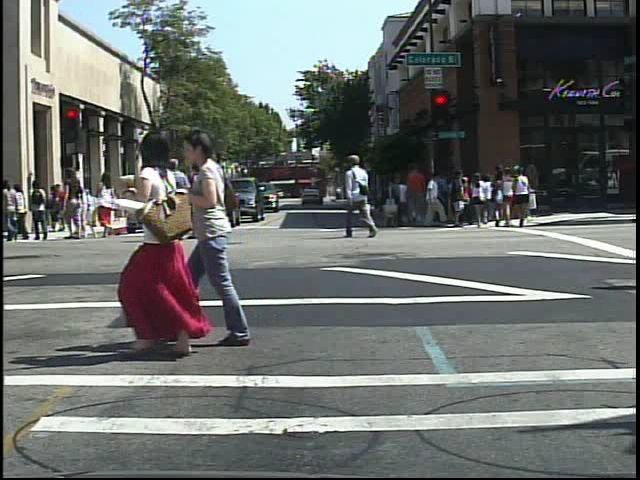person: (105, 127, 226, 358), (179, 128, 266, 352), (343, 149, 378, 242), (158, 154, 194, 243), (503, 163, 543, 231), (192, 155, 220, 245), (61, 166, 88, 243), (95, 172, 123, 239), (28, 179, 52, 242), (469, 170, 493, 232), (2, 178, 23, 246)
